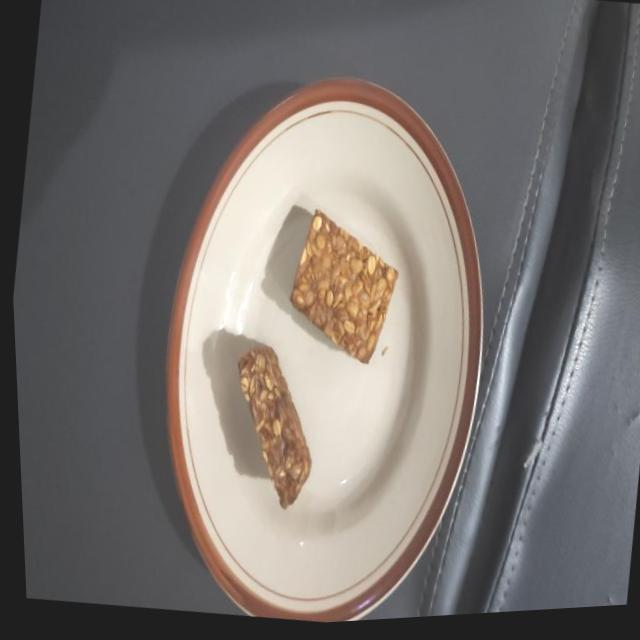tempe_goreng: (291, 210, 398, 363), (238, 346, 312, 508)
